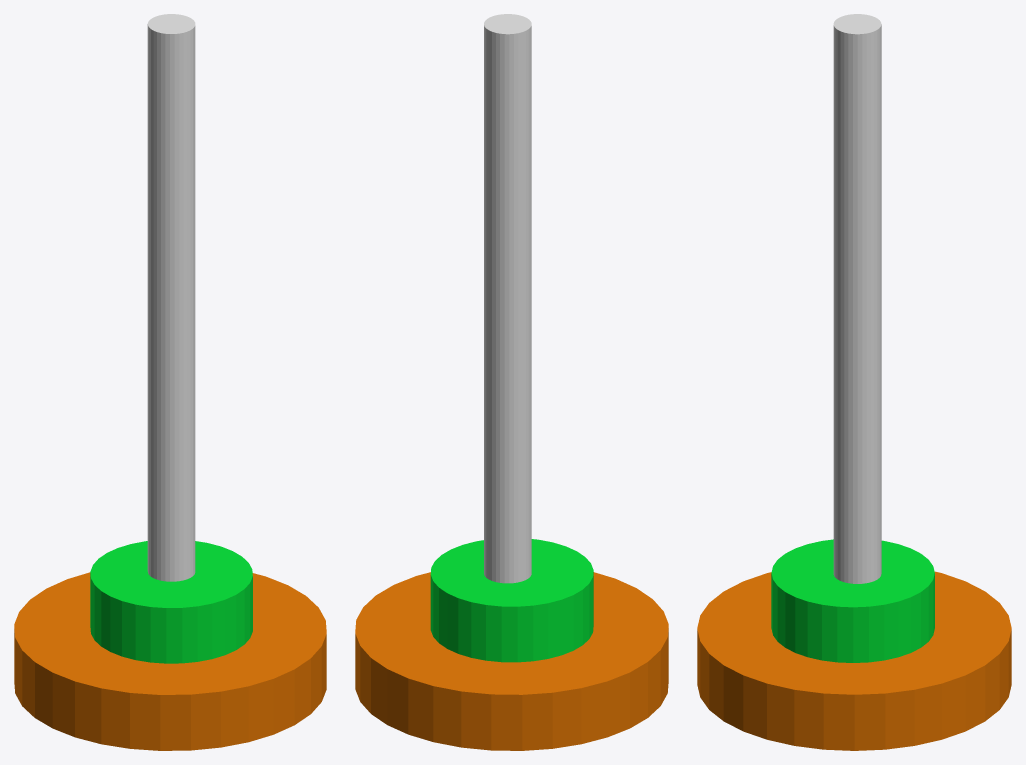
The model's file is Towers of Hanoi 2 ring top third.fbx.
The picture shows the model from 3 angles, left to right: view 1: azimuth 30°, elevation 25°; view 2: azimuth 150°, elevation 25°; view 3: azimuth 270°, elevation 25°; orthographic projection.
Parts seen in each view (by area): view 1: Cylinder.002, Cylinder, Cylinder.004; view 2: Cylinder.002, Cylinder, Cylinder.004; view 3: Cylinder.002, Cylinder, Cylinder.004.
Part boxes in pixels (<box>): Cylinder.002: <box>14,572,326,750</box>; Cylinder: <box>147,14,195,581</box>; Cylinder.004: <box>90,541,252,663</box>; Cylinder.002: <box>355,572,668,750</box>; Cylinder: <box>484,14,531,583</box>; Cylinder.004: <box>430,539,593,662</box>; Cylinder.002: <box>697,571,1011,750</box>; Cylinder: <box>833,14,881,583</box>; Cylinder.004: <box>771,539,934,662</box>.
Bounding box in the file's own units: 211 × 505 × 211.
